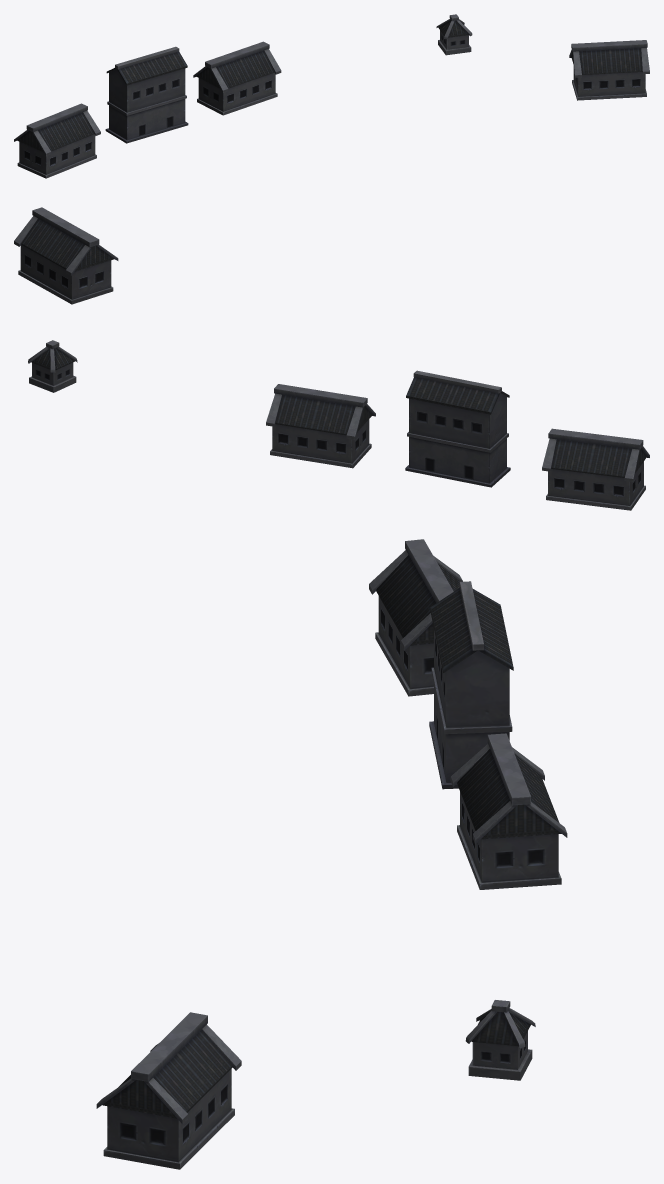
Rendered from fangzi02.FBX.
The picture shows the model from 3 angles, top to bottom: view 1: azimuth 30°, elevation 25°; view 2: azimuth 150°, elevation 25°; view 3: azimuth 270°, elevation 25°; orthographic projection. The views are drawn at different scales.
Parts seen in each view (by area): view 1: fangzi02; view 2: fangzi02; view 3: fangzi02.
Boxes of the visible parts, bbox=[...] form: fangzi02: bbox=[14, 14, 649, 178]; fangzi02: bbox=[14, 207, 649, 510]; fangzi02: bbox=[96, 539, 567, 1169].
Size of the model in its own units: 12823 by 1613 by 4656.
